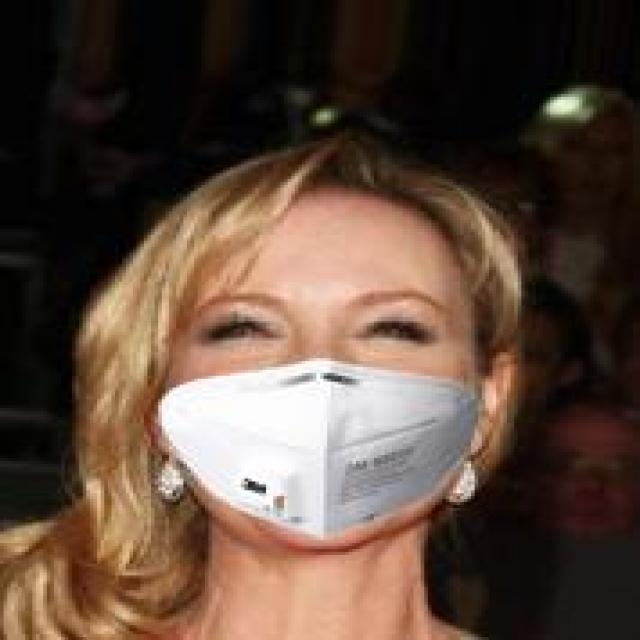mask: (86, 106, 543, 543)
